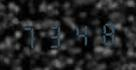eight: (93, 18, 117, 47)
four: (68, 19, 92, 48)
seven: (18, 22, 42, 51)
three: (43, 21, 67, 49)
